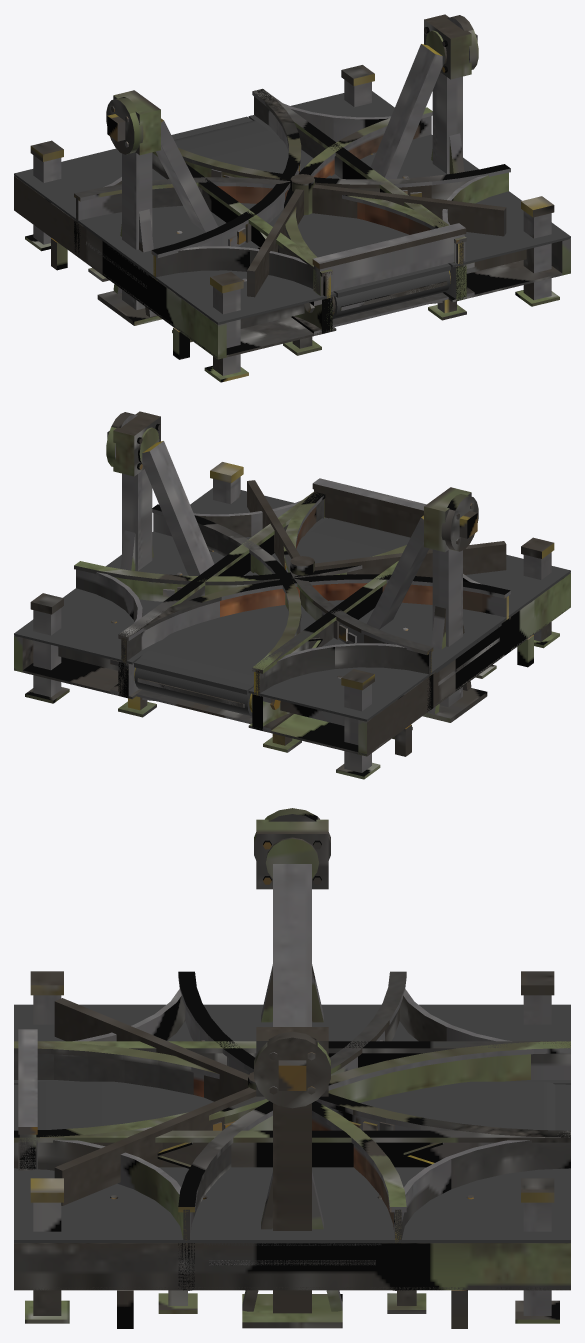
The model's file is feConveyor_HD.fbx.
The picture shows the model from 3 angles, top to bottom: view 1: azimuth 30°, elevation 25°; view 2: azimuth 150°, elevation 25°; view 3: azimuth 270°, elevation 25°; orthographic projection. The views are drawn at different scales.
Visible parts, largest first — view 1: FeBeltFill_R, FeBeltBed, FeBeltDrive_L, FeBeltFill_L, FeBeltDrive_R, FeJunctionPosts, FeJunctionWedge, FeMerge_R, FeBeltEnd, FeMergeRail_R, FeCurveRail_R, FeMerge_L (+9 smaller); view 2: FeBeltFill_R, FeBeltBed, FeBeltFill_L, FeBeltDrive_L, FeBeltDrive_R, FeJunctionPosts, FeCurveRail_R, FeCurveSet_R, FeCurveSet_L, FeJunctionWedge, FeBeltEnd, FeMergeRail_R (+9 smaller); view 3: FeBeltFill_L, FeBeltBed, FeBeltDrive_R, FeCurveRail_L, FeBeltDrive_L, FeBeltFill_R, FeJunctionWedge, FeRail_L, FeJunctionPosts, FeMergeRail_L, FeCurveSet_L, FeCurveRail_R (+8 smaller).
Part boxes in pixels (<box>): FeBeltFill_R: <box>14,148,336,359</box>; FeBeltBed: <box>174,120,474,335</box>; FeBeltDrive_L: <box>370,14,471,178</box>; FeBeltFill_L: <box>248,91,570,302</box>; FeBeltDrive_R: <box>97,90,218,325</box>; FeJunctionPosts: <box>25,65,559,382</box>; FeJunctionWedge: <box>247,174,506,297</box>; FeMerge_R: <box>86,213,466,355</box>; FeBeltEnd: <box>312,223,466,295</box>; FeMergeRail_R: <box>74,177,466,266</box>; FeCurveRail_R: <box>151,89,301,280</box>; FeMerge_L: <box>327,142,508,329</box>; FeBeltFill_R: <box>248,554,570,756</box>; FeBeltBed: <box>110,518,410,732</box>; FeBeltFill_L: <box>14,488,327,699</box>; FeBeltDrive_L: <box>113,411,214,575</box>; FeBeltDrive_R: <box>366,487,487,722</box>; FeJunctionPosts: <box>25,462,559,779</box>; FeCurveRail_R: <box>118,574,510,662</box>; FeCurveSet_R: <box>119,608,509,752</box>; FeCurveSet_L: <box>76,557,262,730</box>; FeJunctionWedge: <box>247,480,506,577</box>; FeBeltEnd: <box>312,478,426,537</box>; FeMergeRail_R: <box>283,492,433,675</box>; FeBeltFill_L: <box>14,1167,570,1328</box>; FeBeltBed: <box>37,1081,555,1130</box>; FeBeltDrive_R: <box>256,819,328,1026</box>; FeCurveRail_L: <box>178,1041,570,1243</box>; FeBeltDrive_L: <box>242,1027,342,1328</box>; FeBeltFill_R: <box>14,1004,570,1084</box>; FeJunctionWedge: <box>54,998,256,1205</box>; FeRail_L: <box>14,1130,570,1168</box>; FeJunctionPosts: <box>25,971,559,1323</box>; FeMergeRail_L: <box>14,1041,406,1241</box>; FeCurveSet_L: <box>178,1084,570,1313</box>; FeCurveRail_R: <box>178,971,570,1137</box>.
Bounding box in the file's own units: 1.02 × 0.57 × 1.
2 materials, 1 textured.
